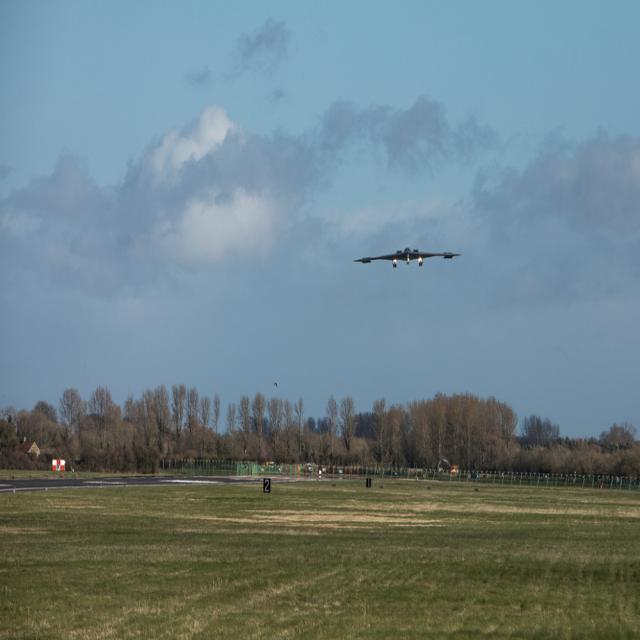MIL_Plane: (340, 253, 449, 262)
